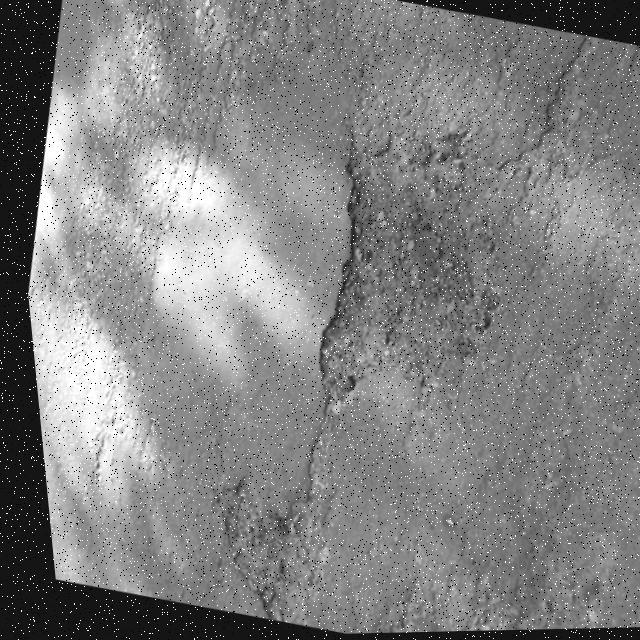pothole: (247, 72, 566, 468), (176, 469, 342, 633)
